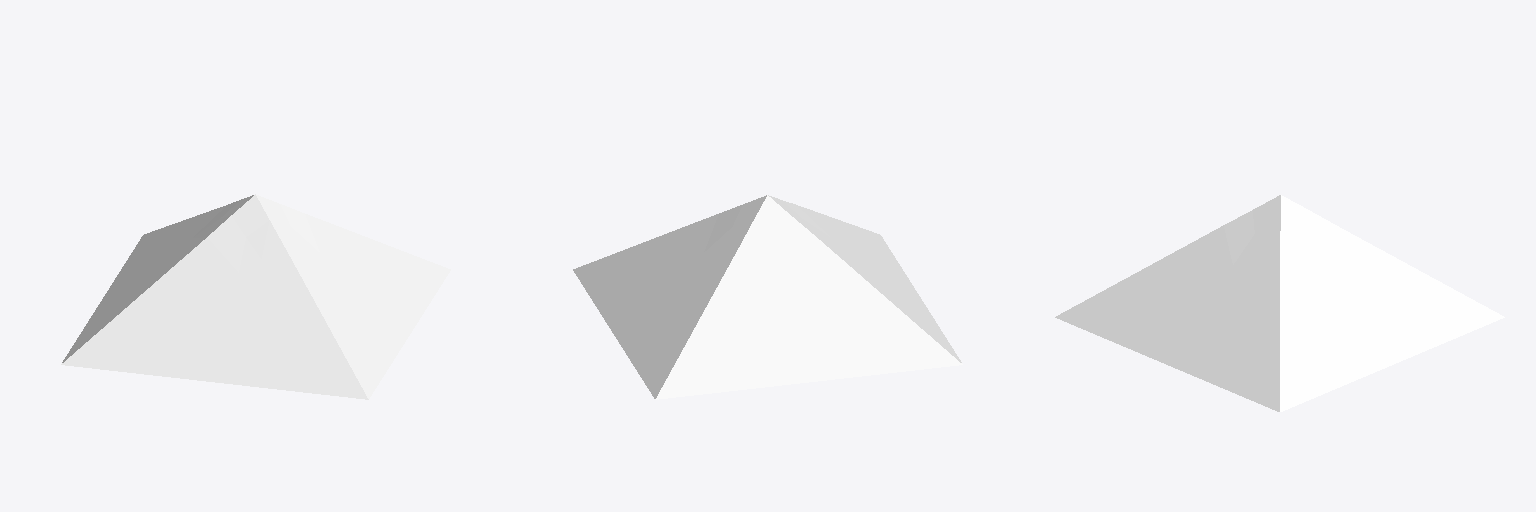
Rendered from RoomCeiling3.obj.
3 renders of one model, left to right at view 1: azimuth 30°, elevation 25°; view 2: azimuth 150°, elevation 25°; view 3: azimuth 270°, elevation 25°, orthographic.
Visible parts, largest first — view 1: RoomCeiling3; view 2: RoomCeiling3; view 3: RoomCeiling3.
Boxes of the visible parts, x1,y1,x2,y2 form: RoomCeiling3: [61, 194, 450, 399]; RoomCeiling3: [573, 195, 962, 399]; RoomCeiling3: [1055, 195, 1504, 411].
Size of the model in its own units: 2 by 0.6 by 2.